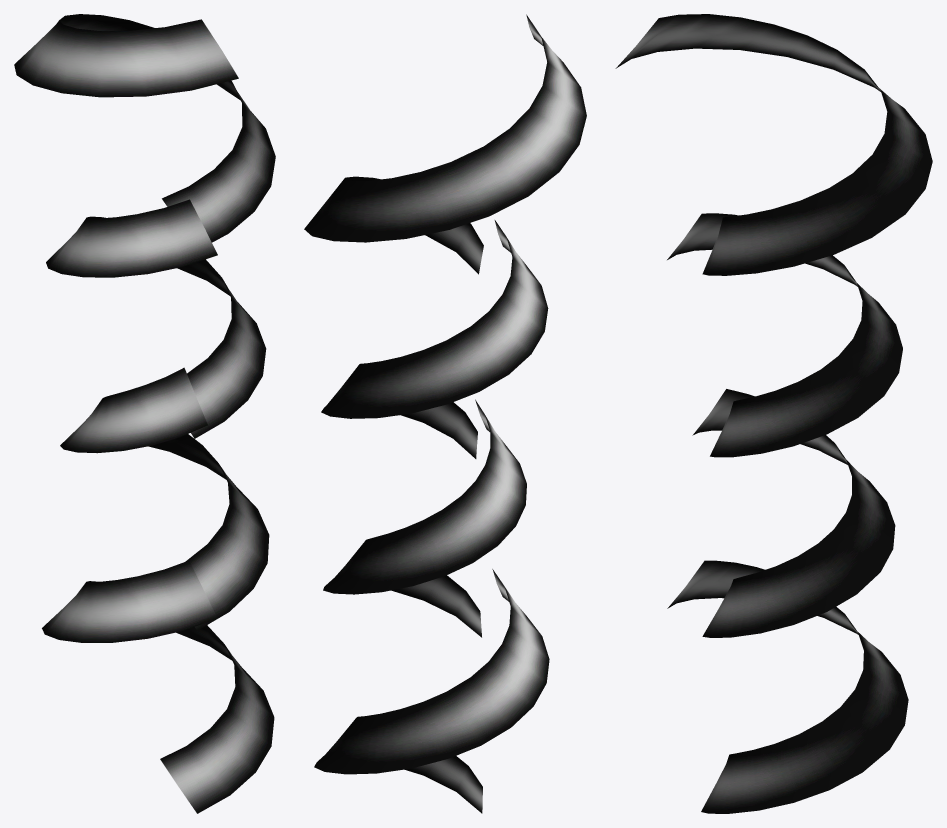
The model's file is vfx_kurp_1191.dae.
3 renders of one model, left to right at view 1: azimuth 30°, elevation 25°; view 2: azimuth 150°, elevation 25°; view 3: azimuth 270°, elevation 25°, orthographic. The views are drawn at different scales.
Visible parts, largest first — view 1: vfx_kurp_1191; view 2: vfx_kurp_1191; view 3: vfx_kurp_1191.
Part boxes in pixels (left/top/right/bottom): vfx_kurp_1191: left=14, top=14, right=275, bottom=813; vfx_kurp_1191: left=304, top=14, right=586, bottom=813; vfx_kurp_1191: left=615, top=14, right=932, bottom=813.
Bounding box in the file's own units: 8.83 × 10.72 × 29.16.
Materials: 1 (1 with a texture image).
